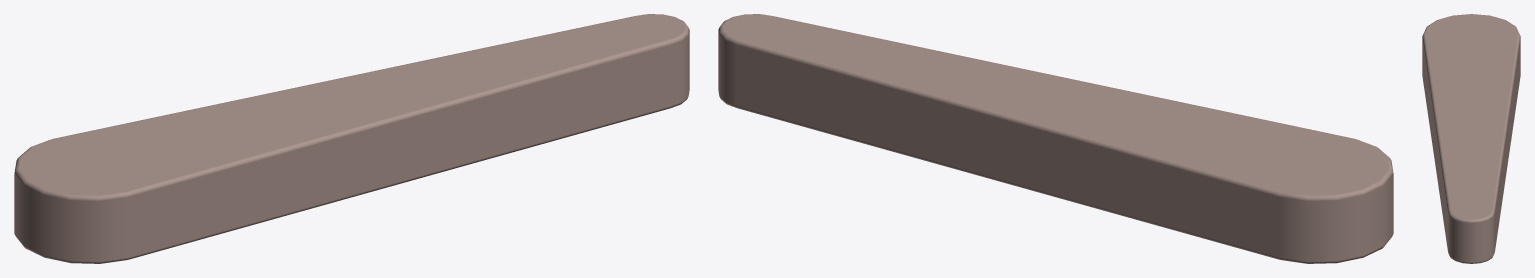
Rendered from SM_PinballFlipper_Sizex2.fbx.
The picture shows the model from 3 angles, left to right: view 1: azimuth 30°, elevation 25°; view 2: azimuth 150°, elevation 25°; view 3: azimuth 270°, elevation 25°; orthographic projection. The views are drawn at different scales.
Visible parts, largest first — view 1: SM_PinballHandle_Sizex2; view 2: SM_PinballHandle_Sizex2; view 3: SM_PinballHandle_Sizex2.
Part boxes in pixels (x1,y1,x2,y2): SM_PinballHandle_Sizex2: (14,14,689,263); SM_PinballHandle_Sizex2: (718,14,1393,263); SM_PinballHandle_Sizex2: (1422,14,1520,263).
Size of the model in its own units: 999 by 100 by 200.
